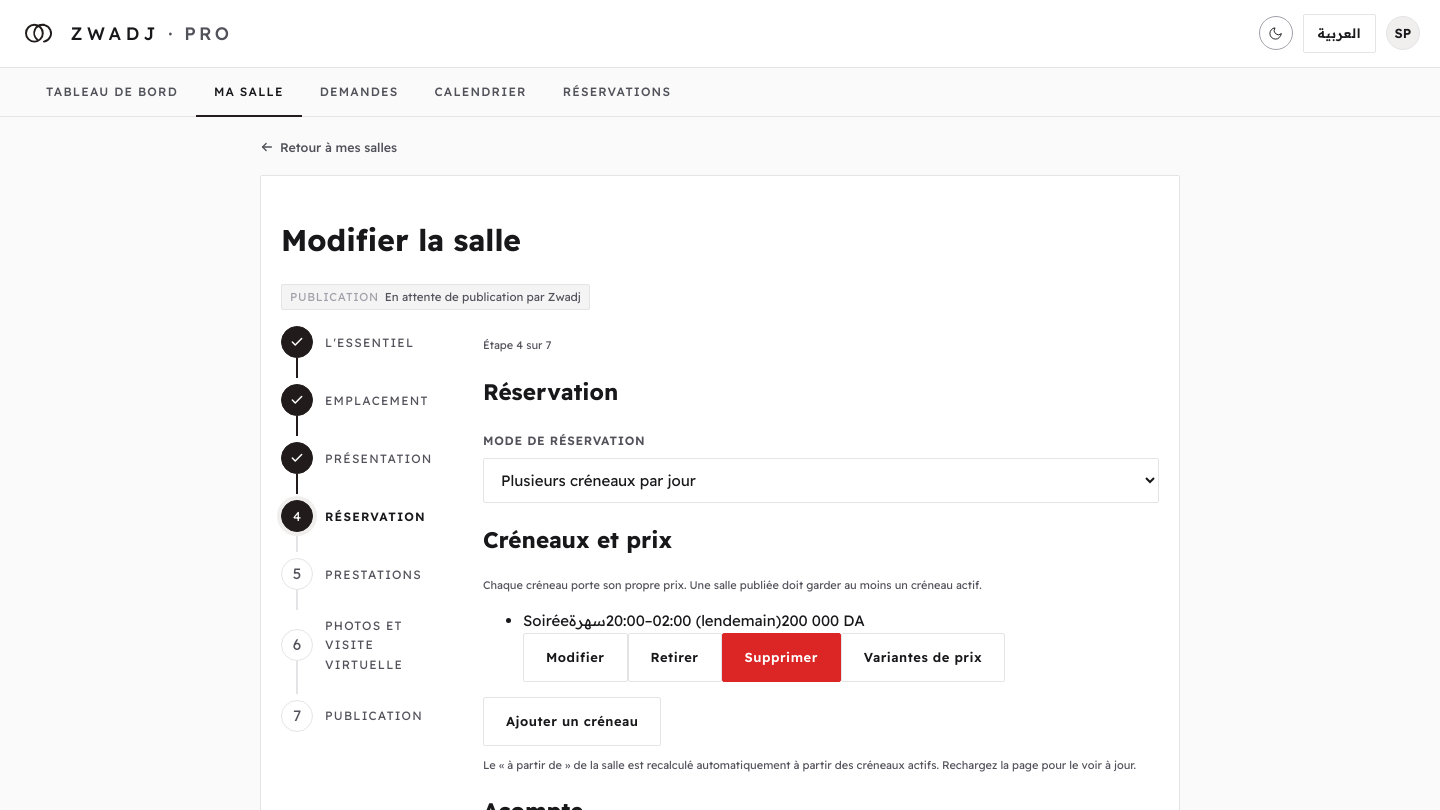
Test: Variantes de prix — lecture › sans variante, l'écran dit que le prix de base s'applique
This screenshot has width=1440, height=810.
Expected: the heading "Réservation" is shown, [483,376,618,406]
Click the button "Variantes de prix": (923, 658) [841,633,1005,682]
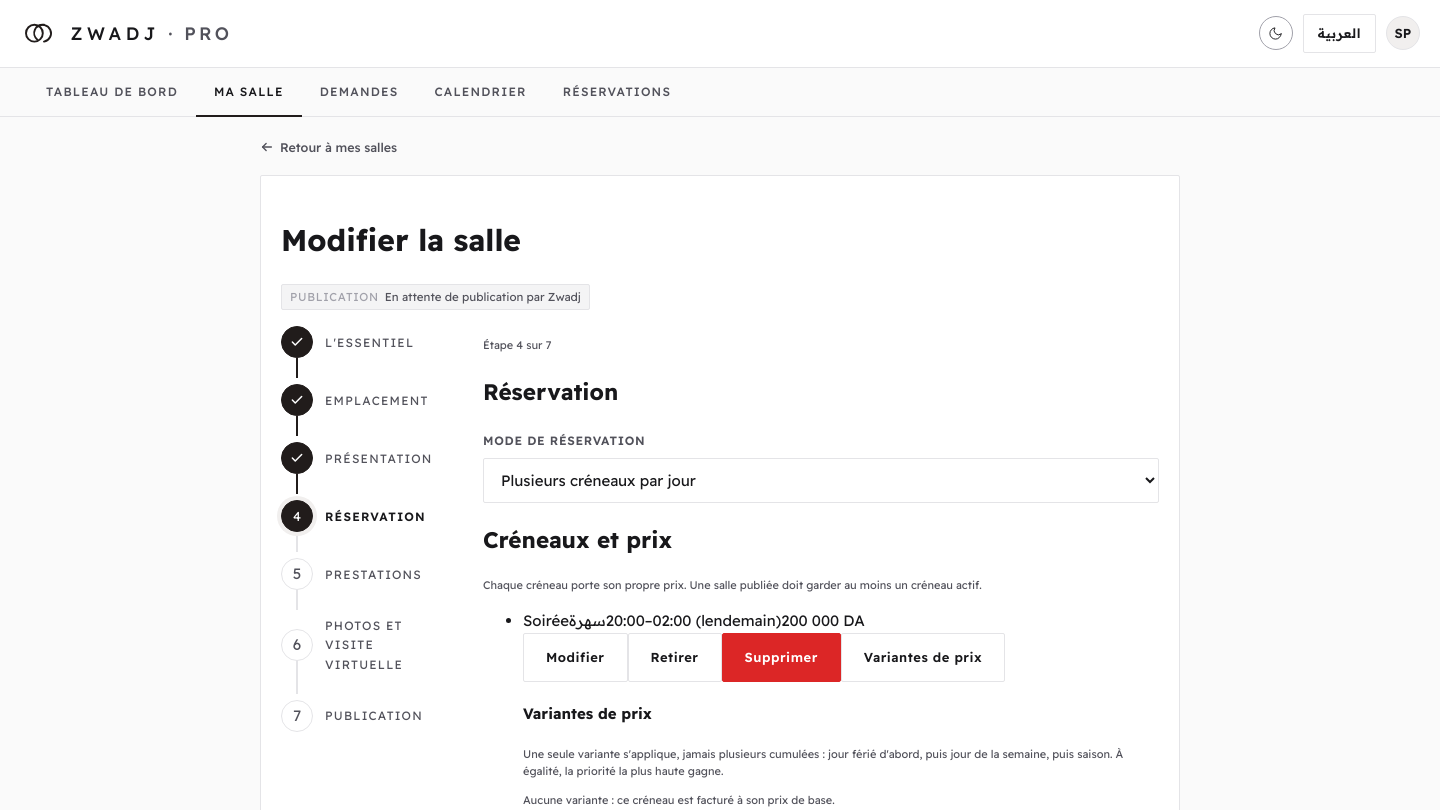
Expected: the text "Aucune variante : ce créneau est facturé à son prix de base." is shown, [523,793,835,807]
